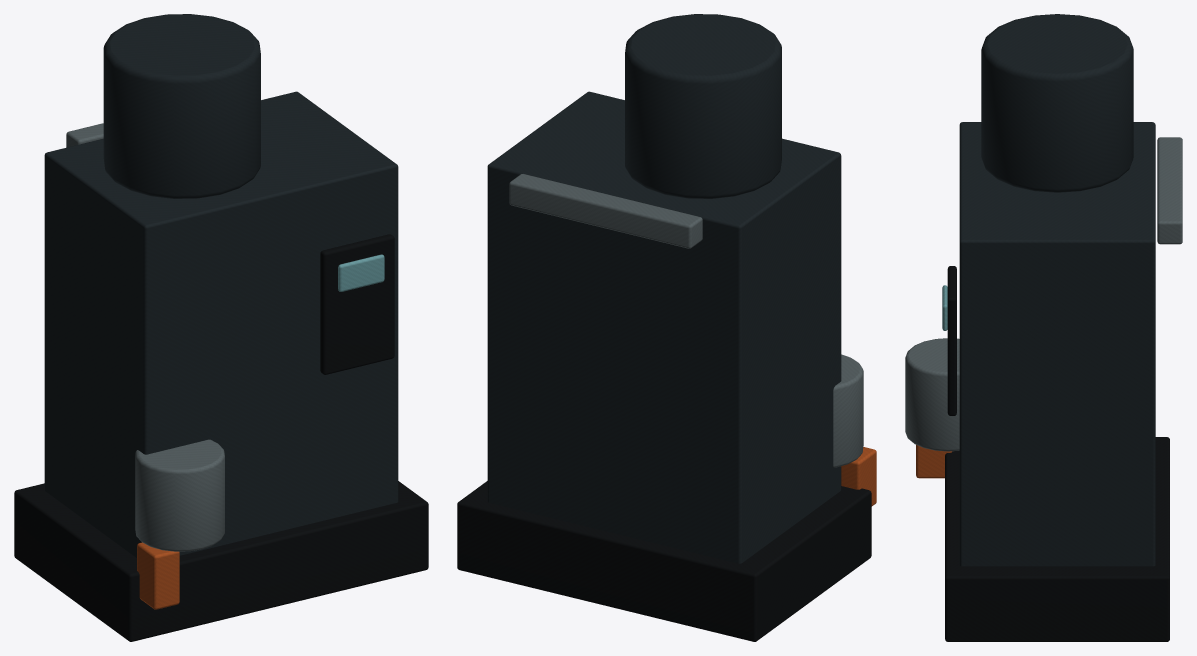
The model's file is PortableDeconUnit.fbx.
The picture shows the model from 3 angles, left to right: view 1: azimuth 30°, elevation 25°; view 2: azimuth 150°, elevation 25°; view 3: azimuth 270°, elevation 25°; orthographic projection. The views are drawn at different scales.
Parts seen in each view (by area): view 1: PortableDeconUnit_Mesh; view 2: PortableDeconUnit_Mesh; view 3: PortableDeconUnit_Mesh.
Part boxes in pixels (x1,y1,x2,y2): PortableDeconUnit_Mesh: (14, 14, 428, 641); PortableDeconUnit_Mesh: (457, 14, 876, 641); PortableDeconUnit_Mesh: (905, 14, 1182, 641).
Size of the model in its own units: 92 by 155 by 76.5.
5 materials, 5 textured.
